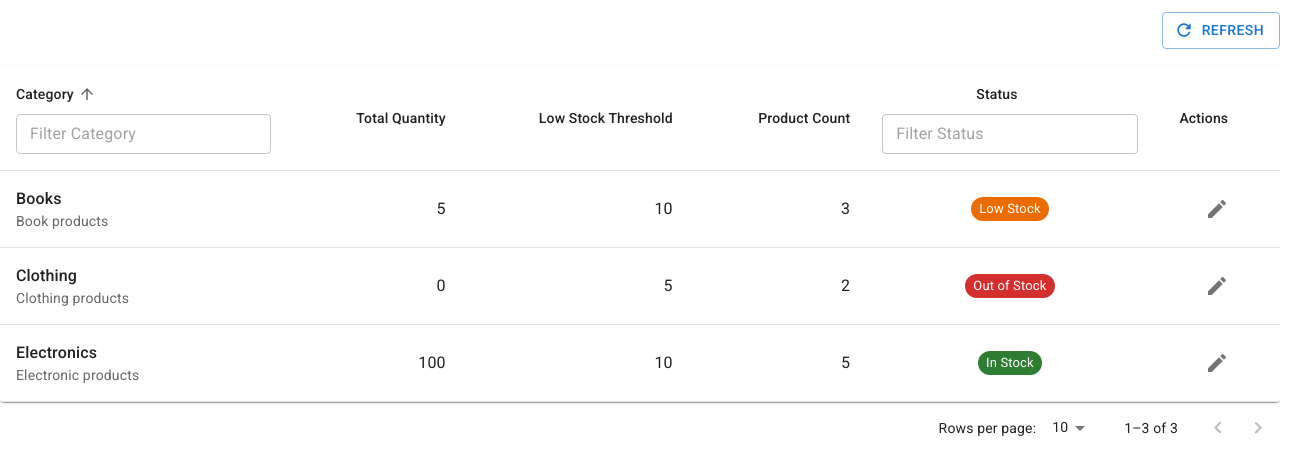
Test: CategoryInventoryTable › sorting and filtering › should allow filtering by stock status
// Type "Low Stock" in the status filter
Type "Low Stock" into the field with placeholder "Filter Status" at {"x": 1010, "y": 134}, box [882,114,1138,154]
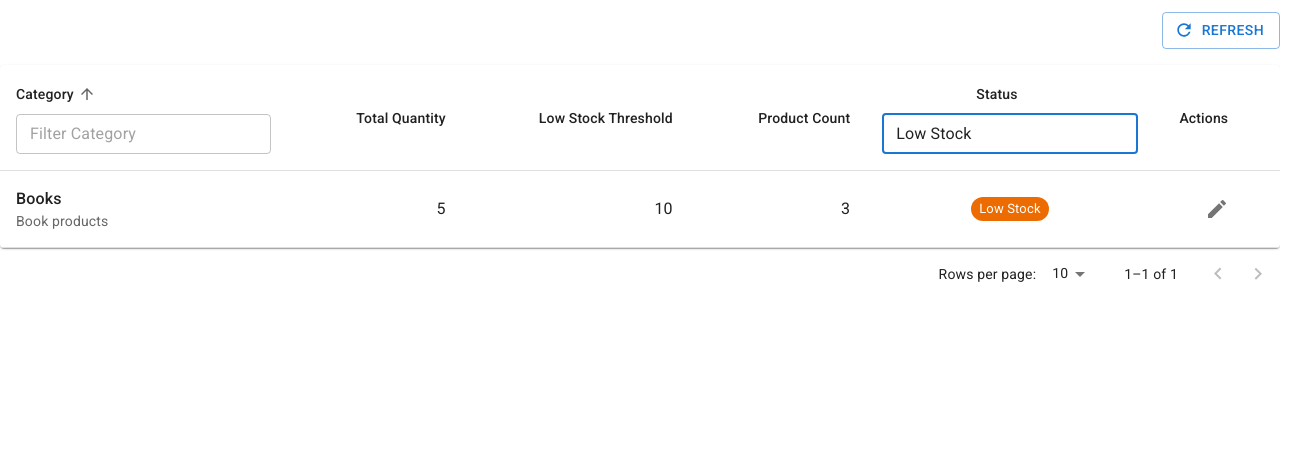
Expected: the text "Books" is shown, [16,189,62,208]
Result: the text "Electronics" is gone
Result: the text "Clothing" is gone
